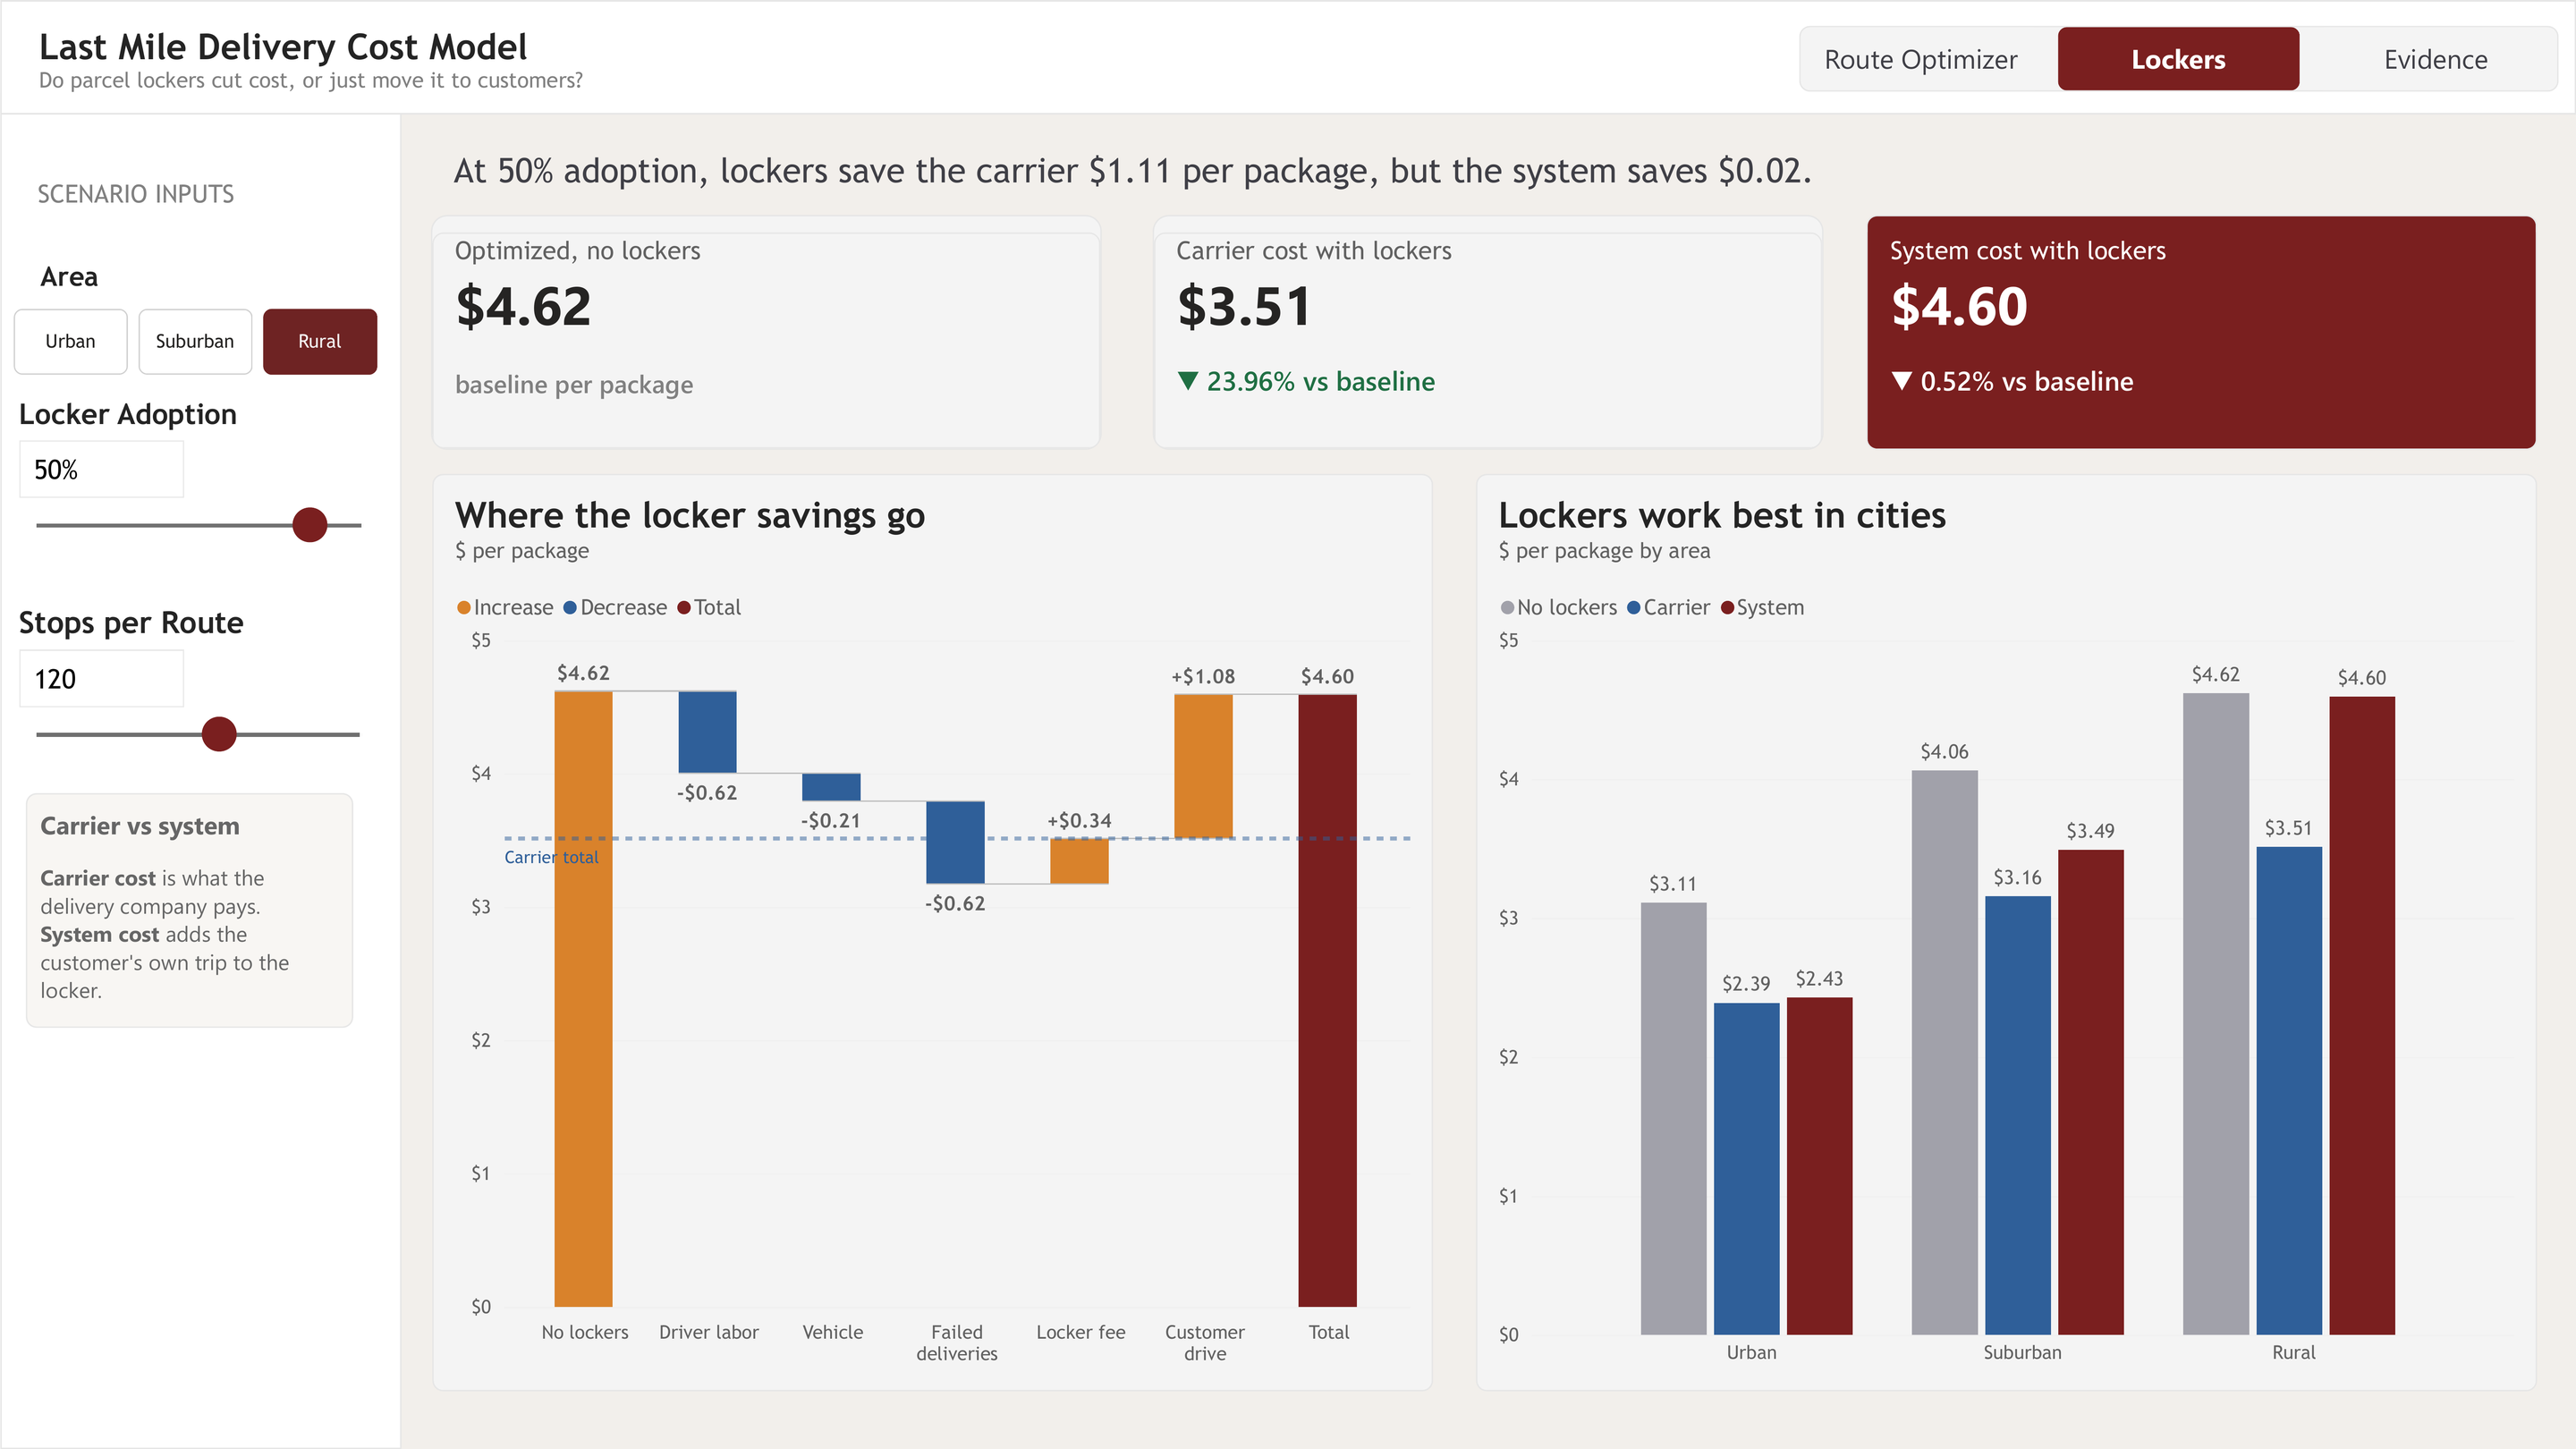

The page's visual inventory and layout, read from the dashboard file:
{"tool":"powerbi","page":{"name":"Lockers","canvas":[1920,1080],"ordinal":1},"visuals":[{"type":"shape","box":[0,68.6,299.1,1011.1],"z":0},{"type":"shape","box":[0,0,1920,85.3],"z":1000},{"type":"slicer","fields":{"Values":["Locker Adoption.Locker Adoption"]},"box":[6,295.6,280.8,140.4],"z":2000},{"type":"slicer","fields":{"Values":["Stops per Route.Stops per Route"]},"box":[6,450.9,280,280],"z":3000},{"type":"cardVisual","fields":{"Data":["_Measures.Cost per Package Optimized"]},"box":[320.7,159.6,500,175],"z":4000},{"type":"cardVisual","fields":{"Data":["_Measures.Carrier Cost with Lockers"]},"box":[859.3,159.6,500,175],"z":5000},{"type":"cardVisual","fields":{"Data":["_Measures.System Cost with Lockers"]},"box":[1390.9,159.6,500,175],"z":6000},{"type":"waterfallChart","title":"Where the locker savings go","fields":{"Category":["CostSteps.Step"],"Y":["_Measures.Waterfall Value"]},"box":[322.5,352.6,745.6,684.2],"z":7000},{"type":"clusteredColumnChart","title":"Lockers work best in cities","fields":{"Category":["AreaTypes.Area"],"Y":["_Measures.Cost per Package Optimized","_Measures.Carrier Cost with Lockers","_Measures.System Cost with Lockers"]},"box":[1100.1,353.1,790.8,684.3],"z":8000},{"type":"advancedSlicerVisual","title":"Area","fields":{"Values":["AreaTypes.Area"]},"box":[10.2,191.1,271.4,87.5],"z":9000},{"type":"pageNavigator","box":[1341.3,19,565.4,49.3],"z":10000},{"type":"textbox","box":[29.4,19.1,776,66.3],"z":11000},{"type":"textbox","box":[28.5,132.8,235,38.6],"z":12000},{"type":"textbox","box":[19,591.1,244.3,174.7],"z":13000},{"type":"cardVisual","fields":{"Data":["_Measures.Locker Takeaway"]},"box":[322.5,100,1470.2,52.6],"z":14000}]}

Visuals, with their boxes in screenshot pixels (x1, y1, x2, y2), scaled from the page's 1920x1080 canvas onto the 2576x1449 screenshot:
shape: x1=0 y1=92 x2=402 y2=1448
shape: x1=0 y1=0 x2=2575 y2=114
slicer - Locker Adoption.Locker Adoption: x1=8 y1=396 x2=385 y2=585
slicer - Stops per Route.Stops per Route: x1=8 y1=605 x2=384 y2=980
cardVisual - _Measures.Cost per Package Optimized: x1=430 y1=214 x2=1101 y2=449
cardVisual - _Measures.Carrier Cost with Lockers: x1=1153 y1=214 x2=1824 y2=449
cardVisual - _Measures.System Cost with Lockers: x1=1866 y1=214 x2=2537 y2=449
"Where the locker savings go" waterfallChart: x1=433 y1=473 x2=1433 y2=1391
"Lockers work best in cities" clusteredColumnChart: x1=1476 y1=474 x2=2537 y2=1392
"Area" advancedSlicerVisual: x1=13 y1=257 x2=377 y2=374
pageNavigator: x1=1800 y1=25 x2=2558 y2=91
textbox: x1=39 y1=26 x2=1080 y2=114
textbox: x1=38 y1=178 x2=353 y2=230
textbox: x1=25 y1=793 x2=353 y2=1028
cardVisual - _Measures.Locker Takeaway: x1=433 y1=134 x2=2405 y2=205
